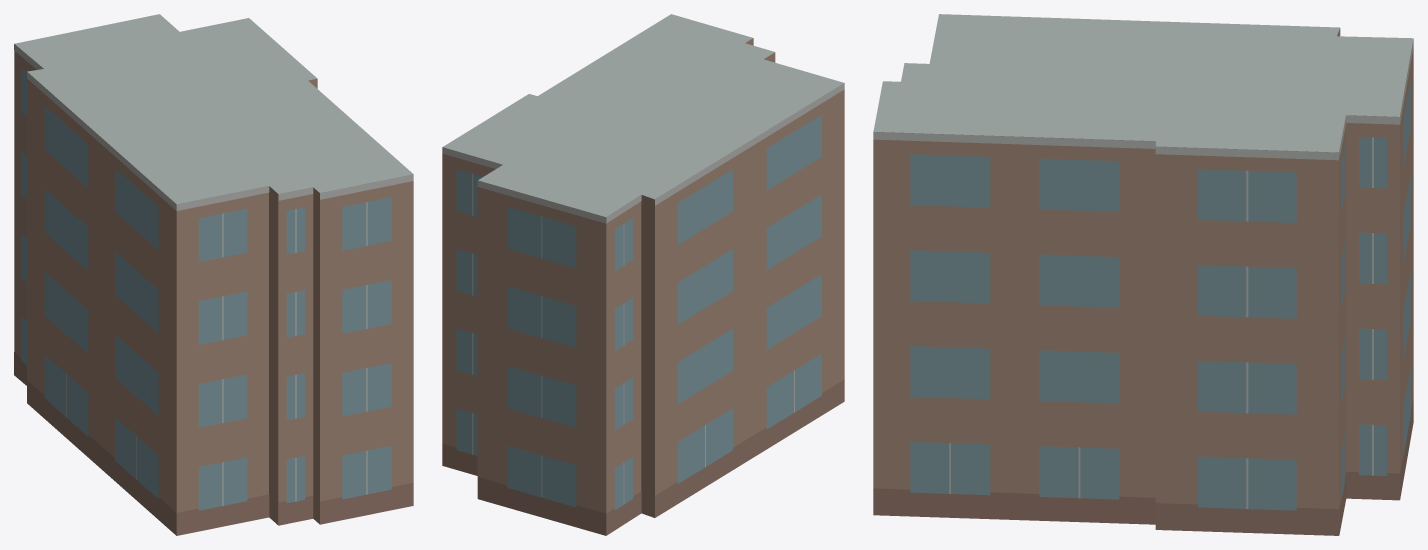
File: survey-upis-32813060.glb
3 renders of one model, left to right at view 1: azimuth 30°, elevation 25°; view 2: azimuth 150°, elevation 25°; view 3: azimuth 270°, elevation 25°, orthographic. The views are drawn at different scales.
Parts seen in each view (by area): view 1: survey-upis-32813060.tmp; view 2: survey-upis-32813060.tmp; view 3: survey-upis-32813060.tmp.
Boxes of the visible parts, x1,y1,x2,y2 form: survey-upis-32813060.tmp: (14, 14, 413, 535); survey-upis-32813060.tmp: (442, 14, 844, 535); survey-upis-32813060.tmp: (873, 14, 1413, 535).
Bounding box in the file's own units: 9.3 × 12 × 15.33.
